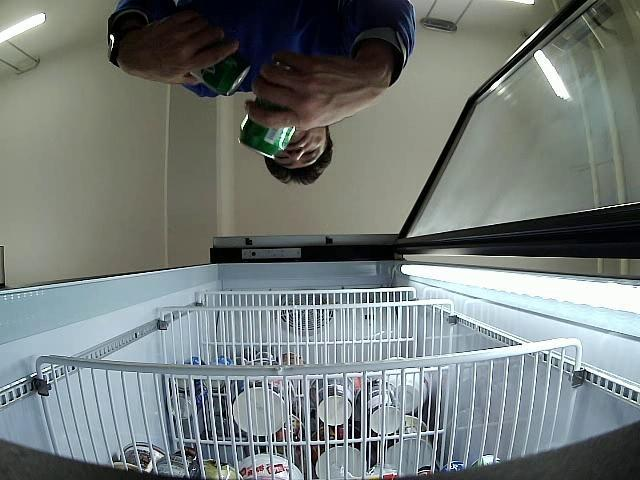12_chilsungCider: (238, 61, 296, 158), (188, 52, 250, 96)
